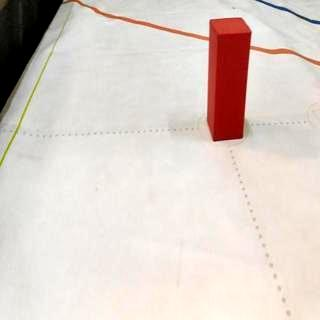redbox: (206, 18, 252, 142)
